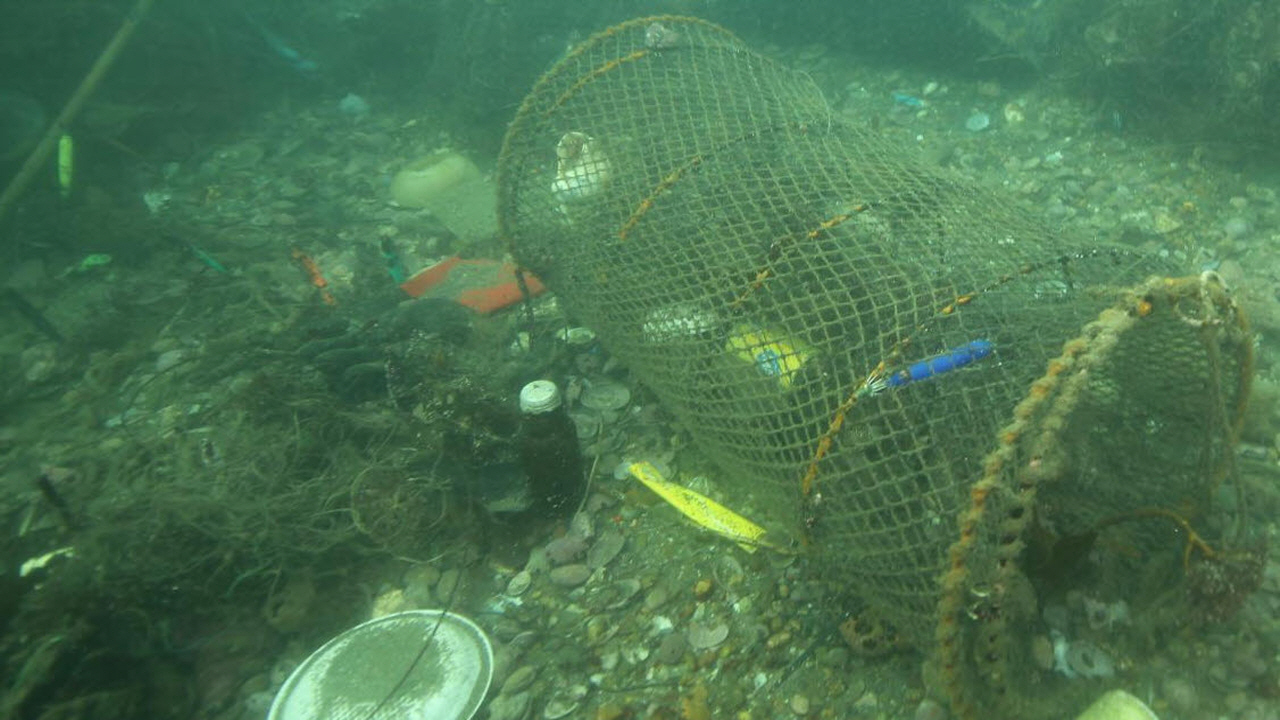spring fish trap: (493, 13, 1252, 720)
